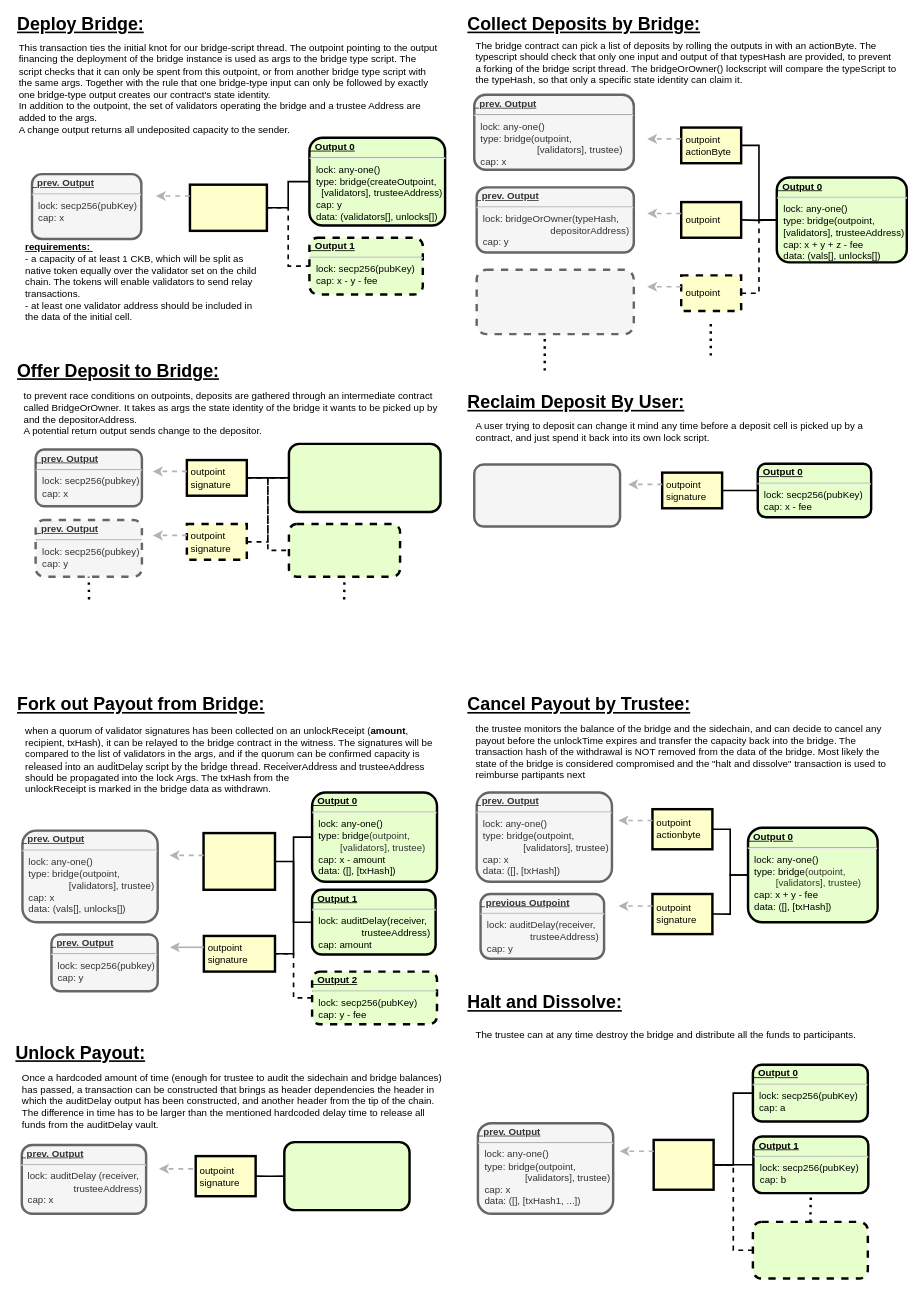
This 922x1294 diagram has some shape labels left out. Here are the shapes that lost their labels. From the top down, the centre of each, then its label:
At (x=228, y=207): "createOutpoint signature".
At (x=555, y=301): "prev. Output lock: bridgeOrOwner(typeHash, depositorAddress) cap: z".
At (x=364, y=477): "Output 0 lock: bridgeOrOwner(typeHash, depositorAddress ) cap: z".
At (x=547, y=495): "prev. Output lock: bridgeOrOwner(outpoint, depositorAddress) cap: x".
At (x=344, y=550): "Output 1 lock: secp256(pubKey) cap: x + y - z - fee".
At (x=239, y=861): "outpoint actionByte unlockReceipt [unlockSig]".
At (x=346, y=1175): "Output 0 headerDeps: intput_0, tip lock: secp256(pubKey) cap: x - fee".
At (x=683, y=1164): "outpoint actionbyte signature".
At (x=810, y=1249): "Output 2 lock: secp256(pubKey) cap: x - a - b ... - fee".
